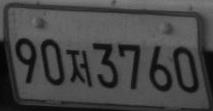0: (173, 45, 201, 93), (39, 37, 66, 86)
3: (91, 41, 119, 89)
6: (148, 45, 173, 92)
7: (118, 43, 141, 90)
9: (13, 36, 37, 84)
저: (66, 48, 93, 89)
